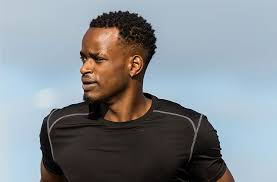black_male: (61, 1, 158, 103)
